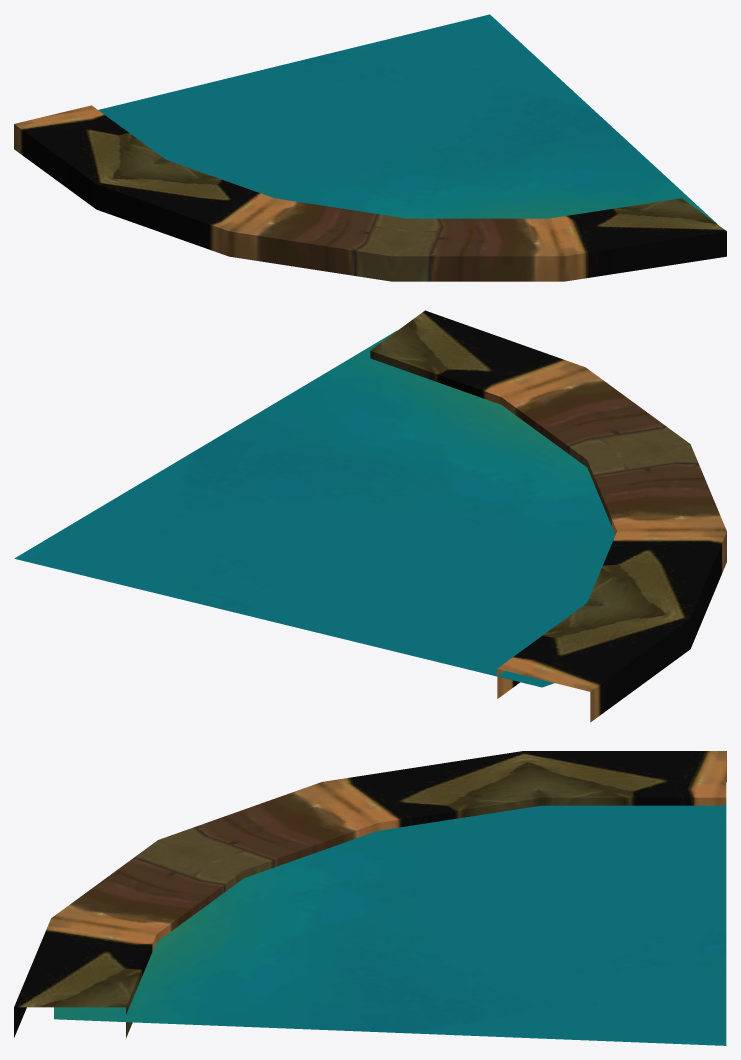
File: guangmingjing02.FBX
The picture shows the model from 3 angles, top to bottom: view 1: azimuth 30°, elevation 25°; view 2: azimuth 150°, elevation 25°; view 3: azimuth 270°, elevation 25°; orthographic projection. The views are drawn at different scales.
Parts seen in each view (by area): view 1: xinshuichi; view 2: xinshuichi; view 3: xinshuichi.
Boxes of the visible parts, x1,y1,x2,y2 form: xinshuichi: (14,14,726,281); xinshuichi: (14,310,726,722); xinshuichi: (14,751,726,1045).
Bounding box in the file's own units: 58.11 × 61 × 2.95.
